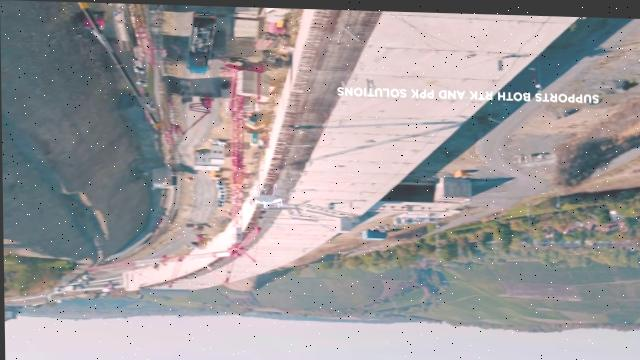drone: (247, 181, 285, 210)
